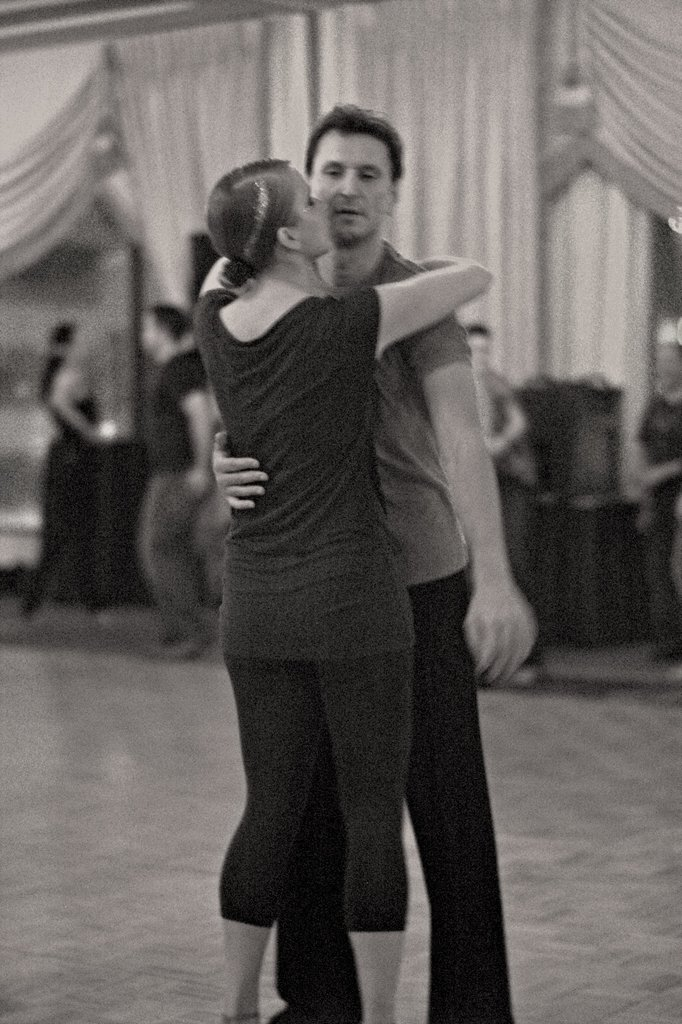face: (286, 178, 334, 253)
